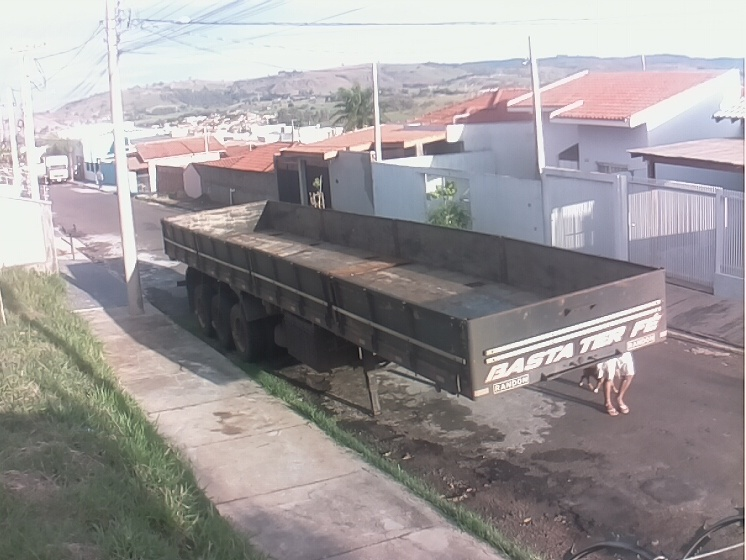person: (600, 347, 636, 417)
